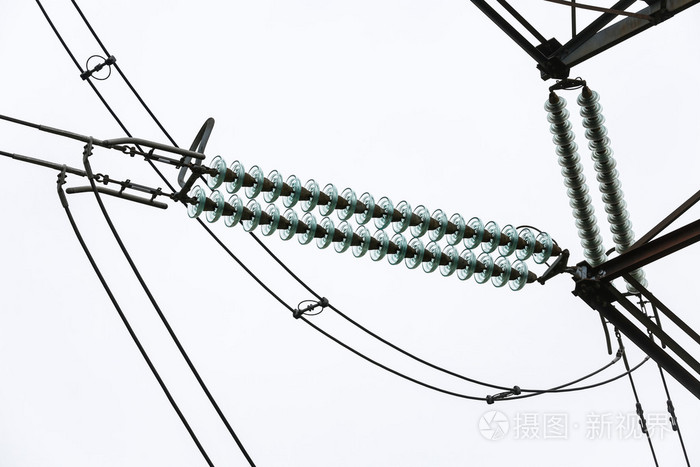insulator: (183, 156, 555, 293), (546, 90, 652, 299)
